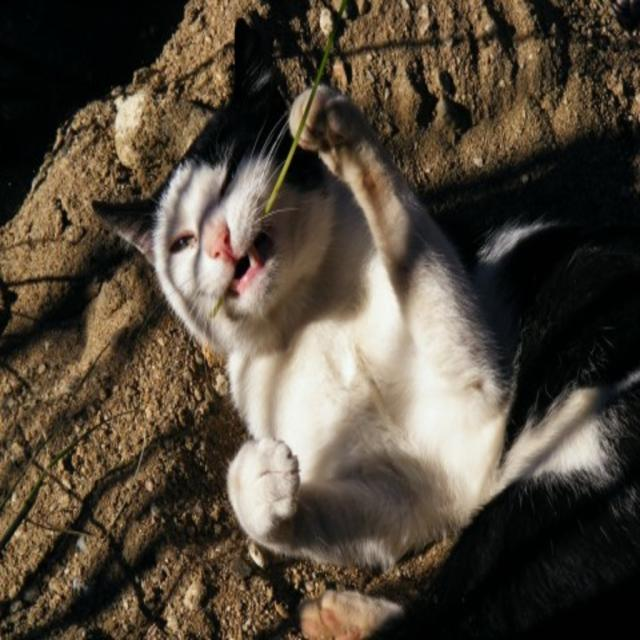Cat: (80, 8, 638, 638)
